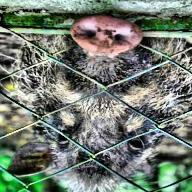boar: (5, 15, 192, 192)
